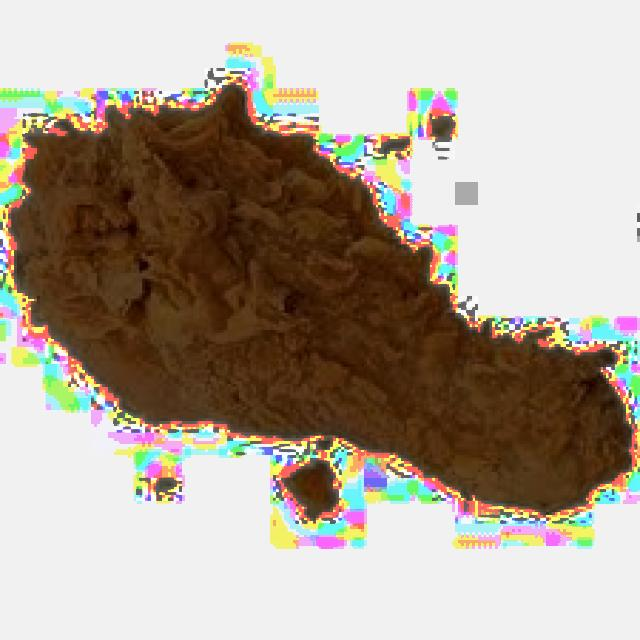fried_chicken: (11, 80, 632, 512)
